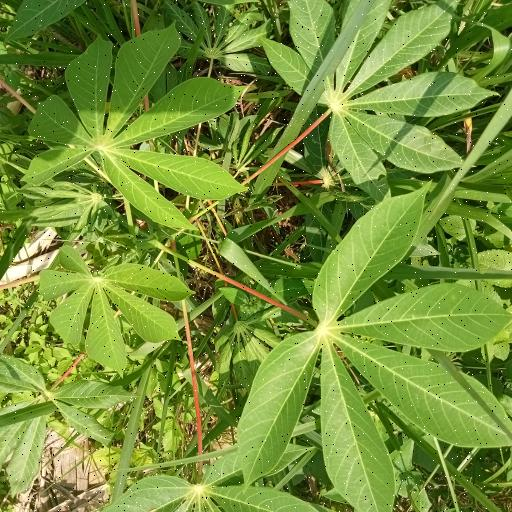Cassava_Healthy: (238, 194, 511, 508), (29, 30, 242, 230), (273, 0, 489, 181)
